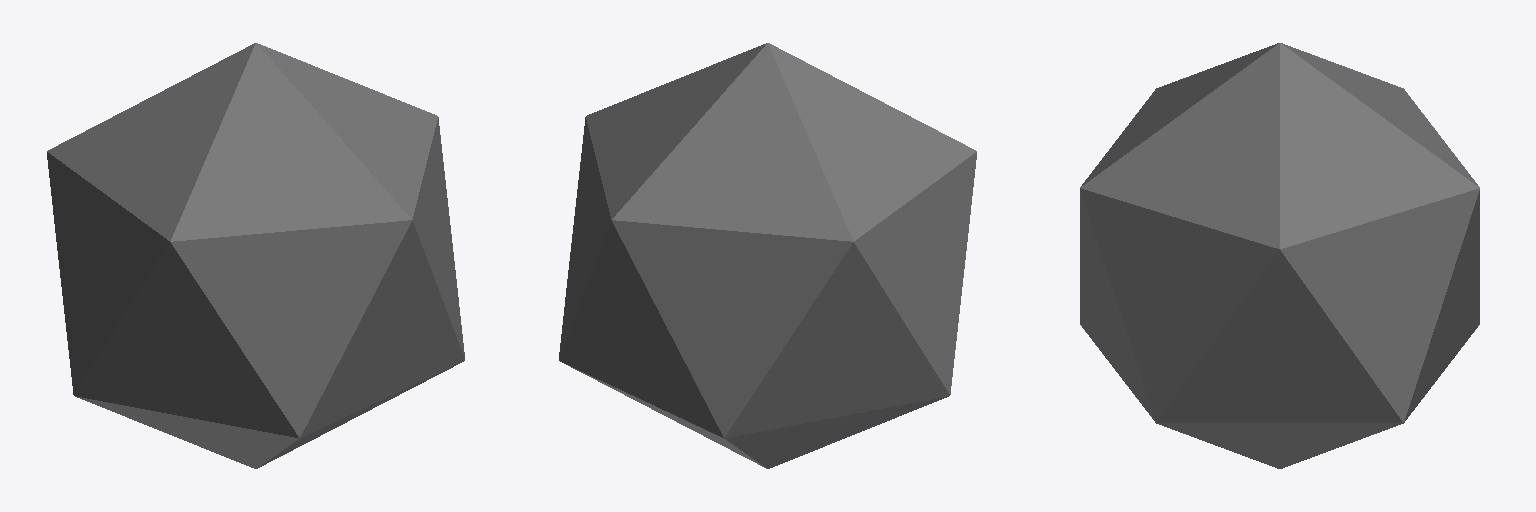
3 renders of one model, left to right at view 1: azimuth 30°, elevation 25°; view 2: azimuth 150°, elevation 25°; view 3: azimuth 270°, elevation 25°, orthographic.
Parts seen in each view (by area): view 1: Icosahedron; view 2: Icosahedron; view 3: Icosahedron.
Part boxes in pixels (left/top/right/bottom): Icosahedron: left=47, top=43, right=464, bottom=468; Icosahedron: left=559, top=43, right=976, bottom=468; Icosahedron: left=1080, top=43, right=1479, bottom=468.
Bounding box in the file's own units: 1.79 × 2 × 1.7.
1 materials, 1 textured.